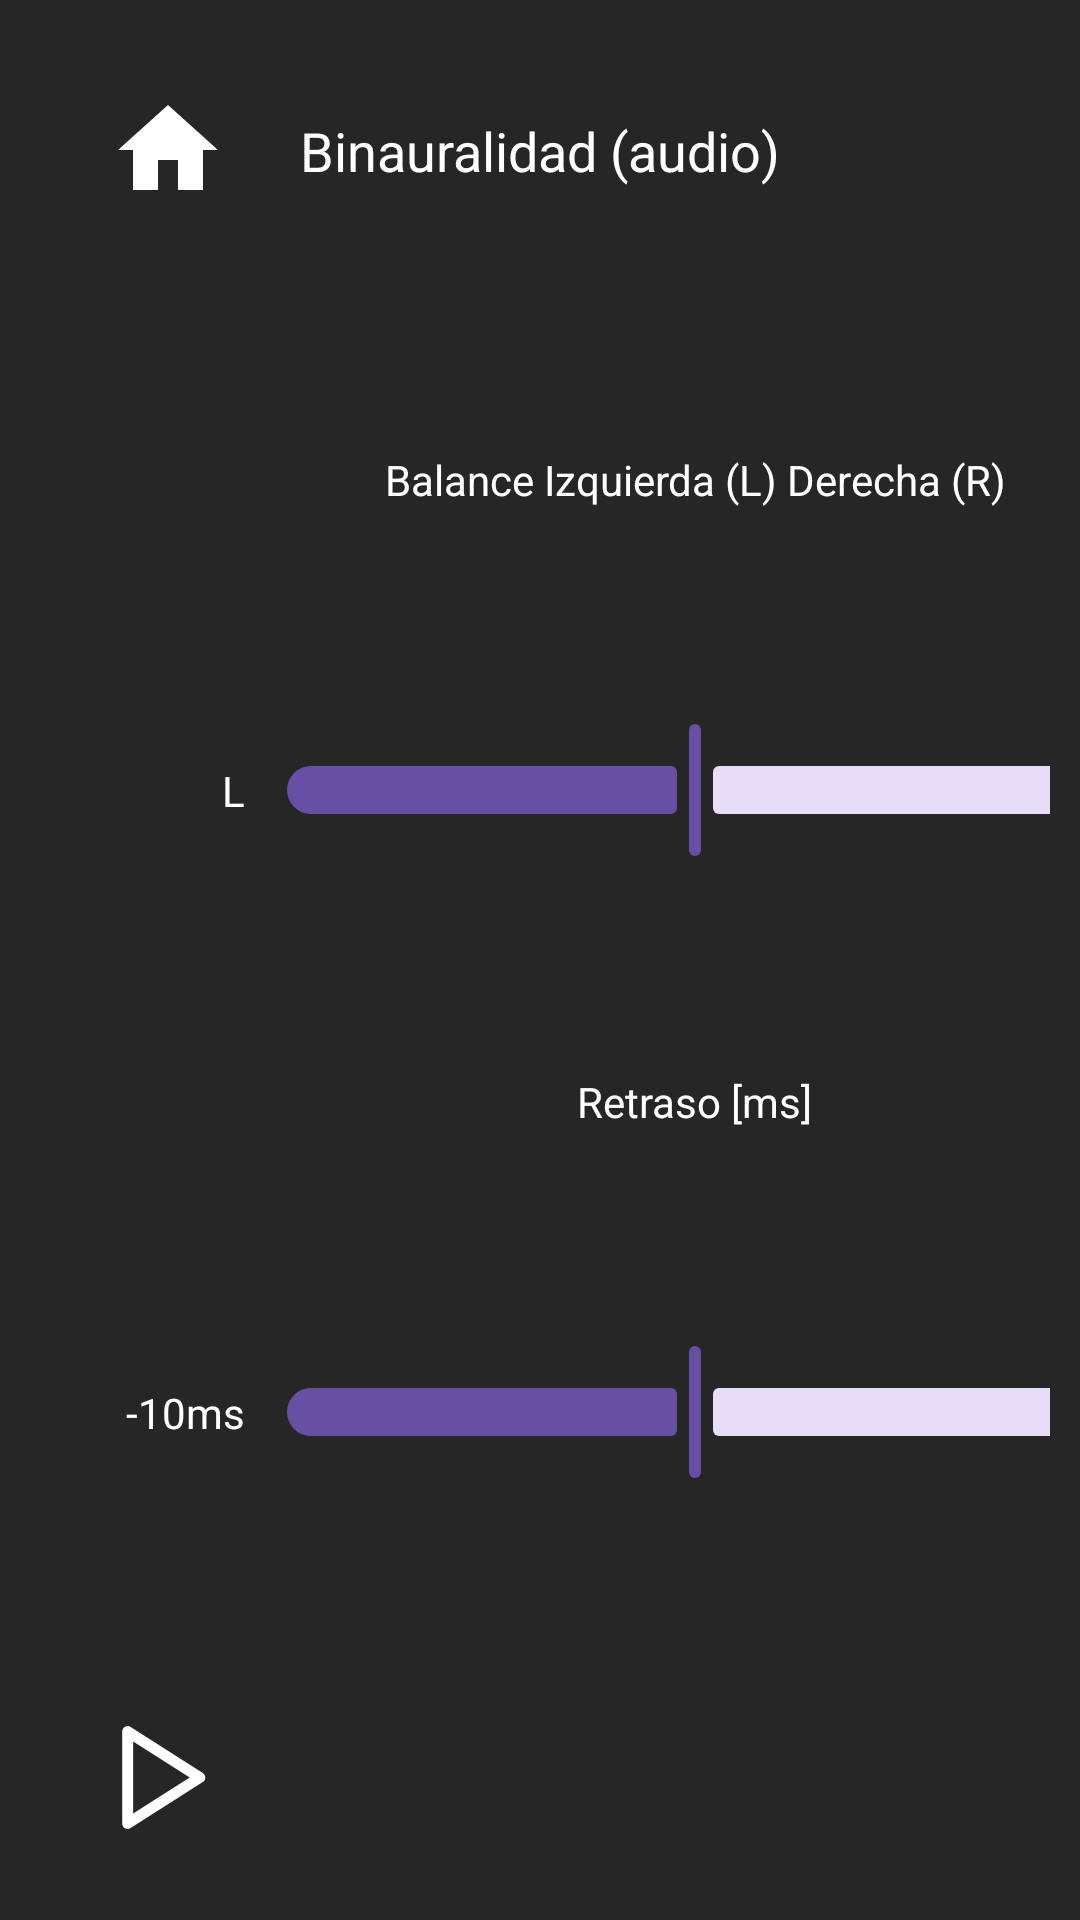

Where to tap for icons on this 1080*1920 app screen, as [x,y]:
Reproducir o pausar: [164,1777]
Volver al inicio: [168,147]
